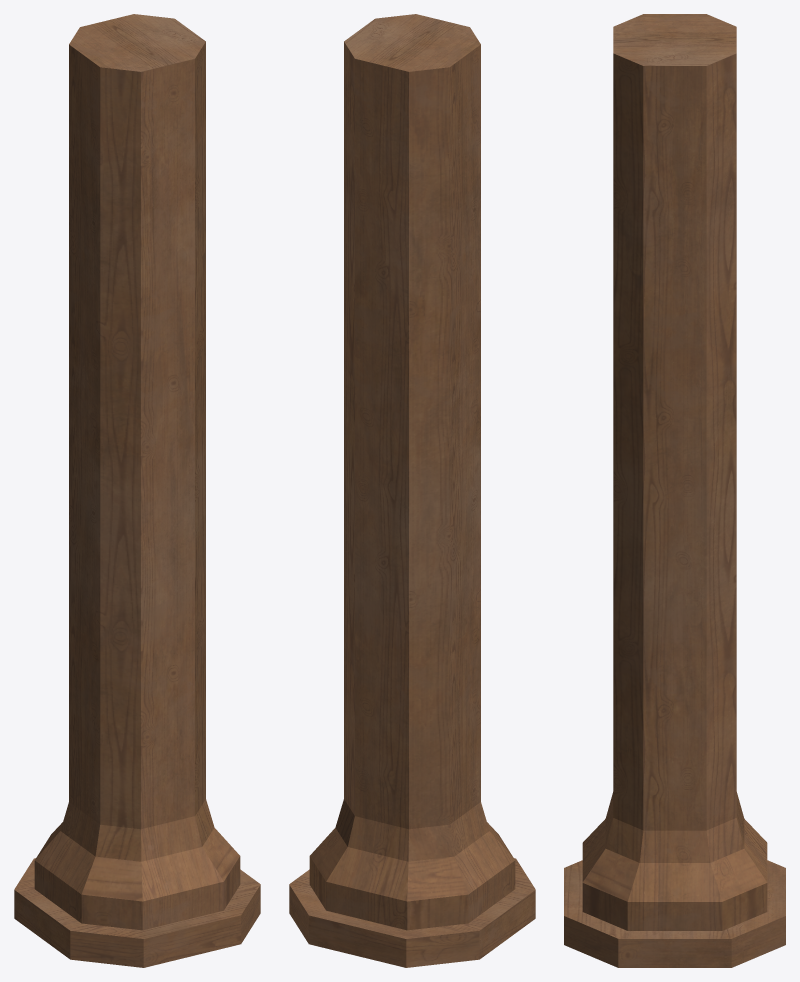
The model's file is ColumnasMadera.fbx.
3 views of the same model, side by side, from view 1: azimuth 30°, elevation 25°; view 2: azimuth 150°, elevation 25°; view 3: azimuth 270°, elevation 25° (orthographic).
Visible parts, largest first — view 1: Cube.007; view 2: Cube.007; view 3: Cube.007.
Boxes of the visible parts, x1=… form: Cube.007: x1=14, y1=14, x2=260, y2=967; Cube.007: x1=289, y1=14, x2=535, y2=967; Cube.007: x1=564, y1=14, x2=785, y2=967.
Size of the model in its own units: 68.4 by 300 by 68.4.
Materials: 1 (1 with a texture image).
